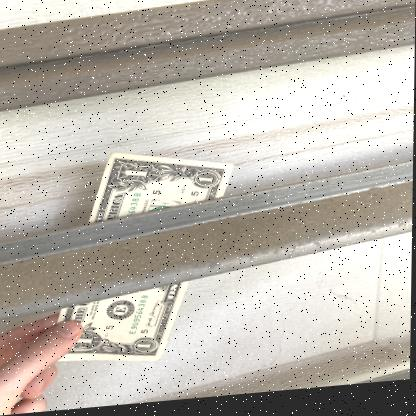one-front: (40, 149, 236, 363)
